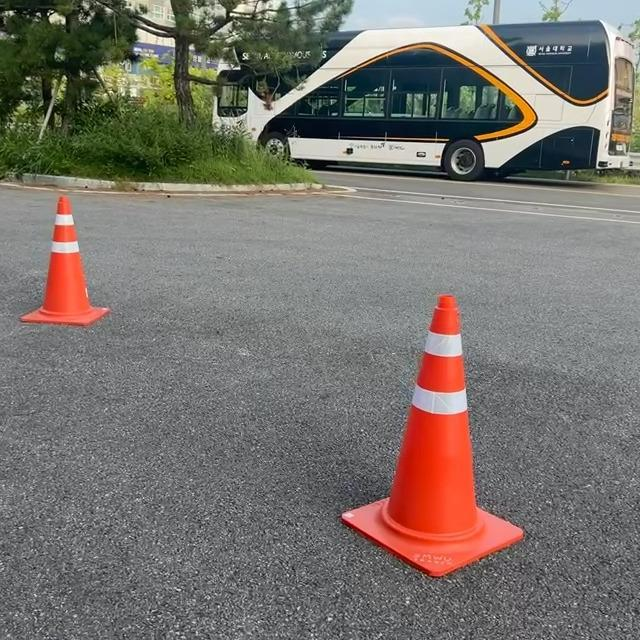fallen_object: (266, 256, 512, 605), (3, 180, 162, 408)
